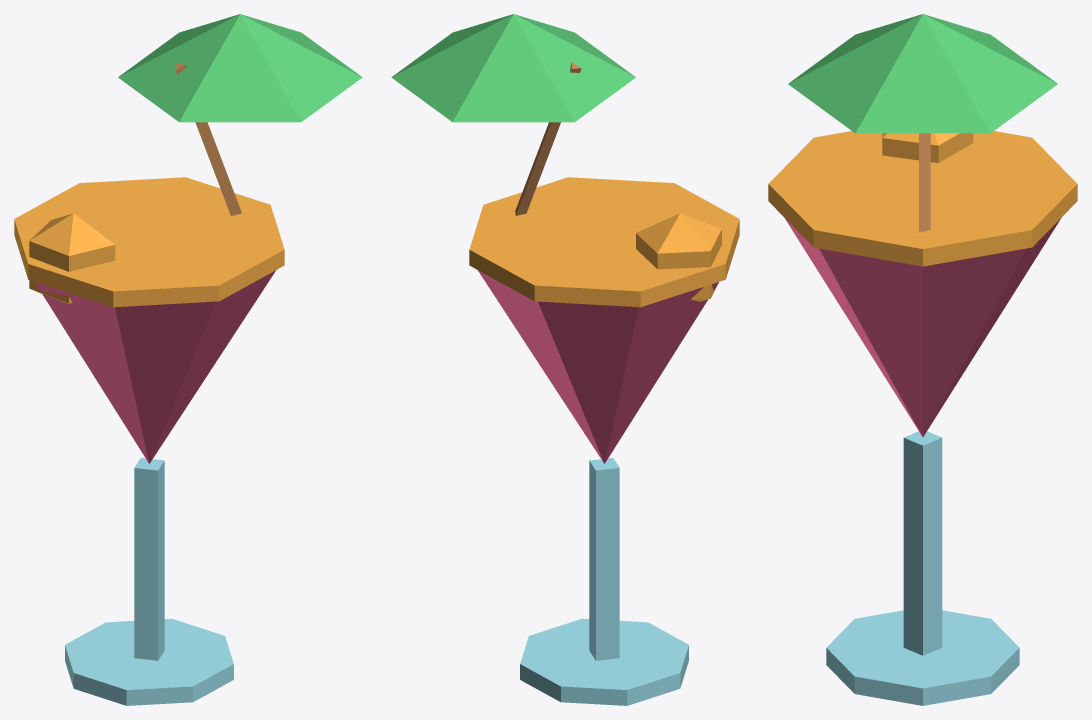
The model's file is good_cocktail.glb.
3 views of the same model, side by side, from view 1: azimuth 30°, elevation 25°; view 2: azimuth 150°, elevation 25°; view 3: azimuth 270°, elevation 25° (orthographic). The views are drawn at different scales.
Visible parts, largest first — view 1: good_cocktail; view 2: good_cocktail; view 3: good_cocktail.
Boxes of the visible parts, left/top/right/bottom form: good_cocktail: left=14, top=14, right=362, bottom=705; good_cocktail: left=391, top=14, right=739, bottom=705; good_cocktail: left=768, top=14, right=1077, bottom=705.
Bounding box in the file's own units: 0.2006 × 0.4 × 0.16.
